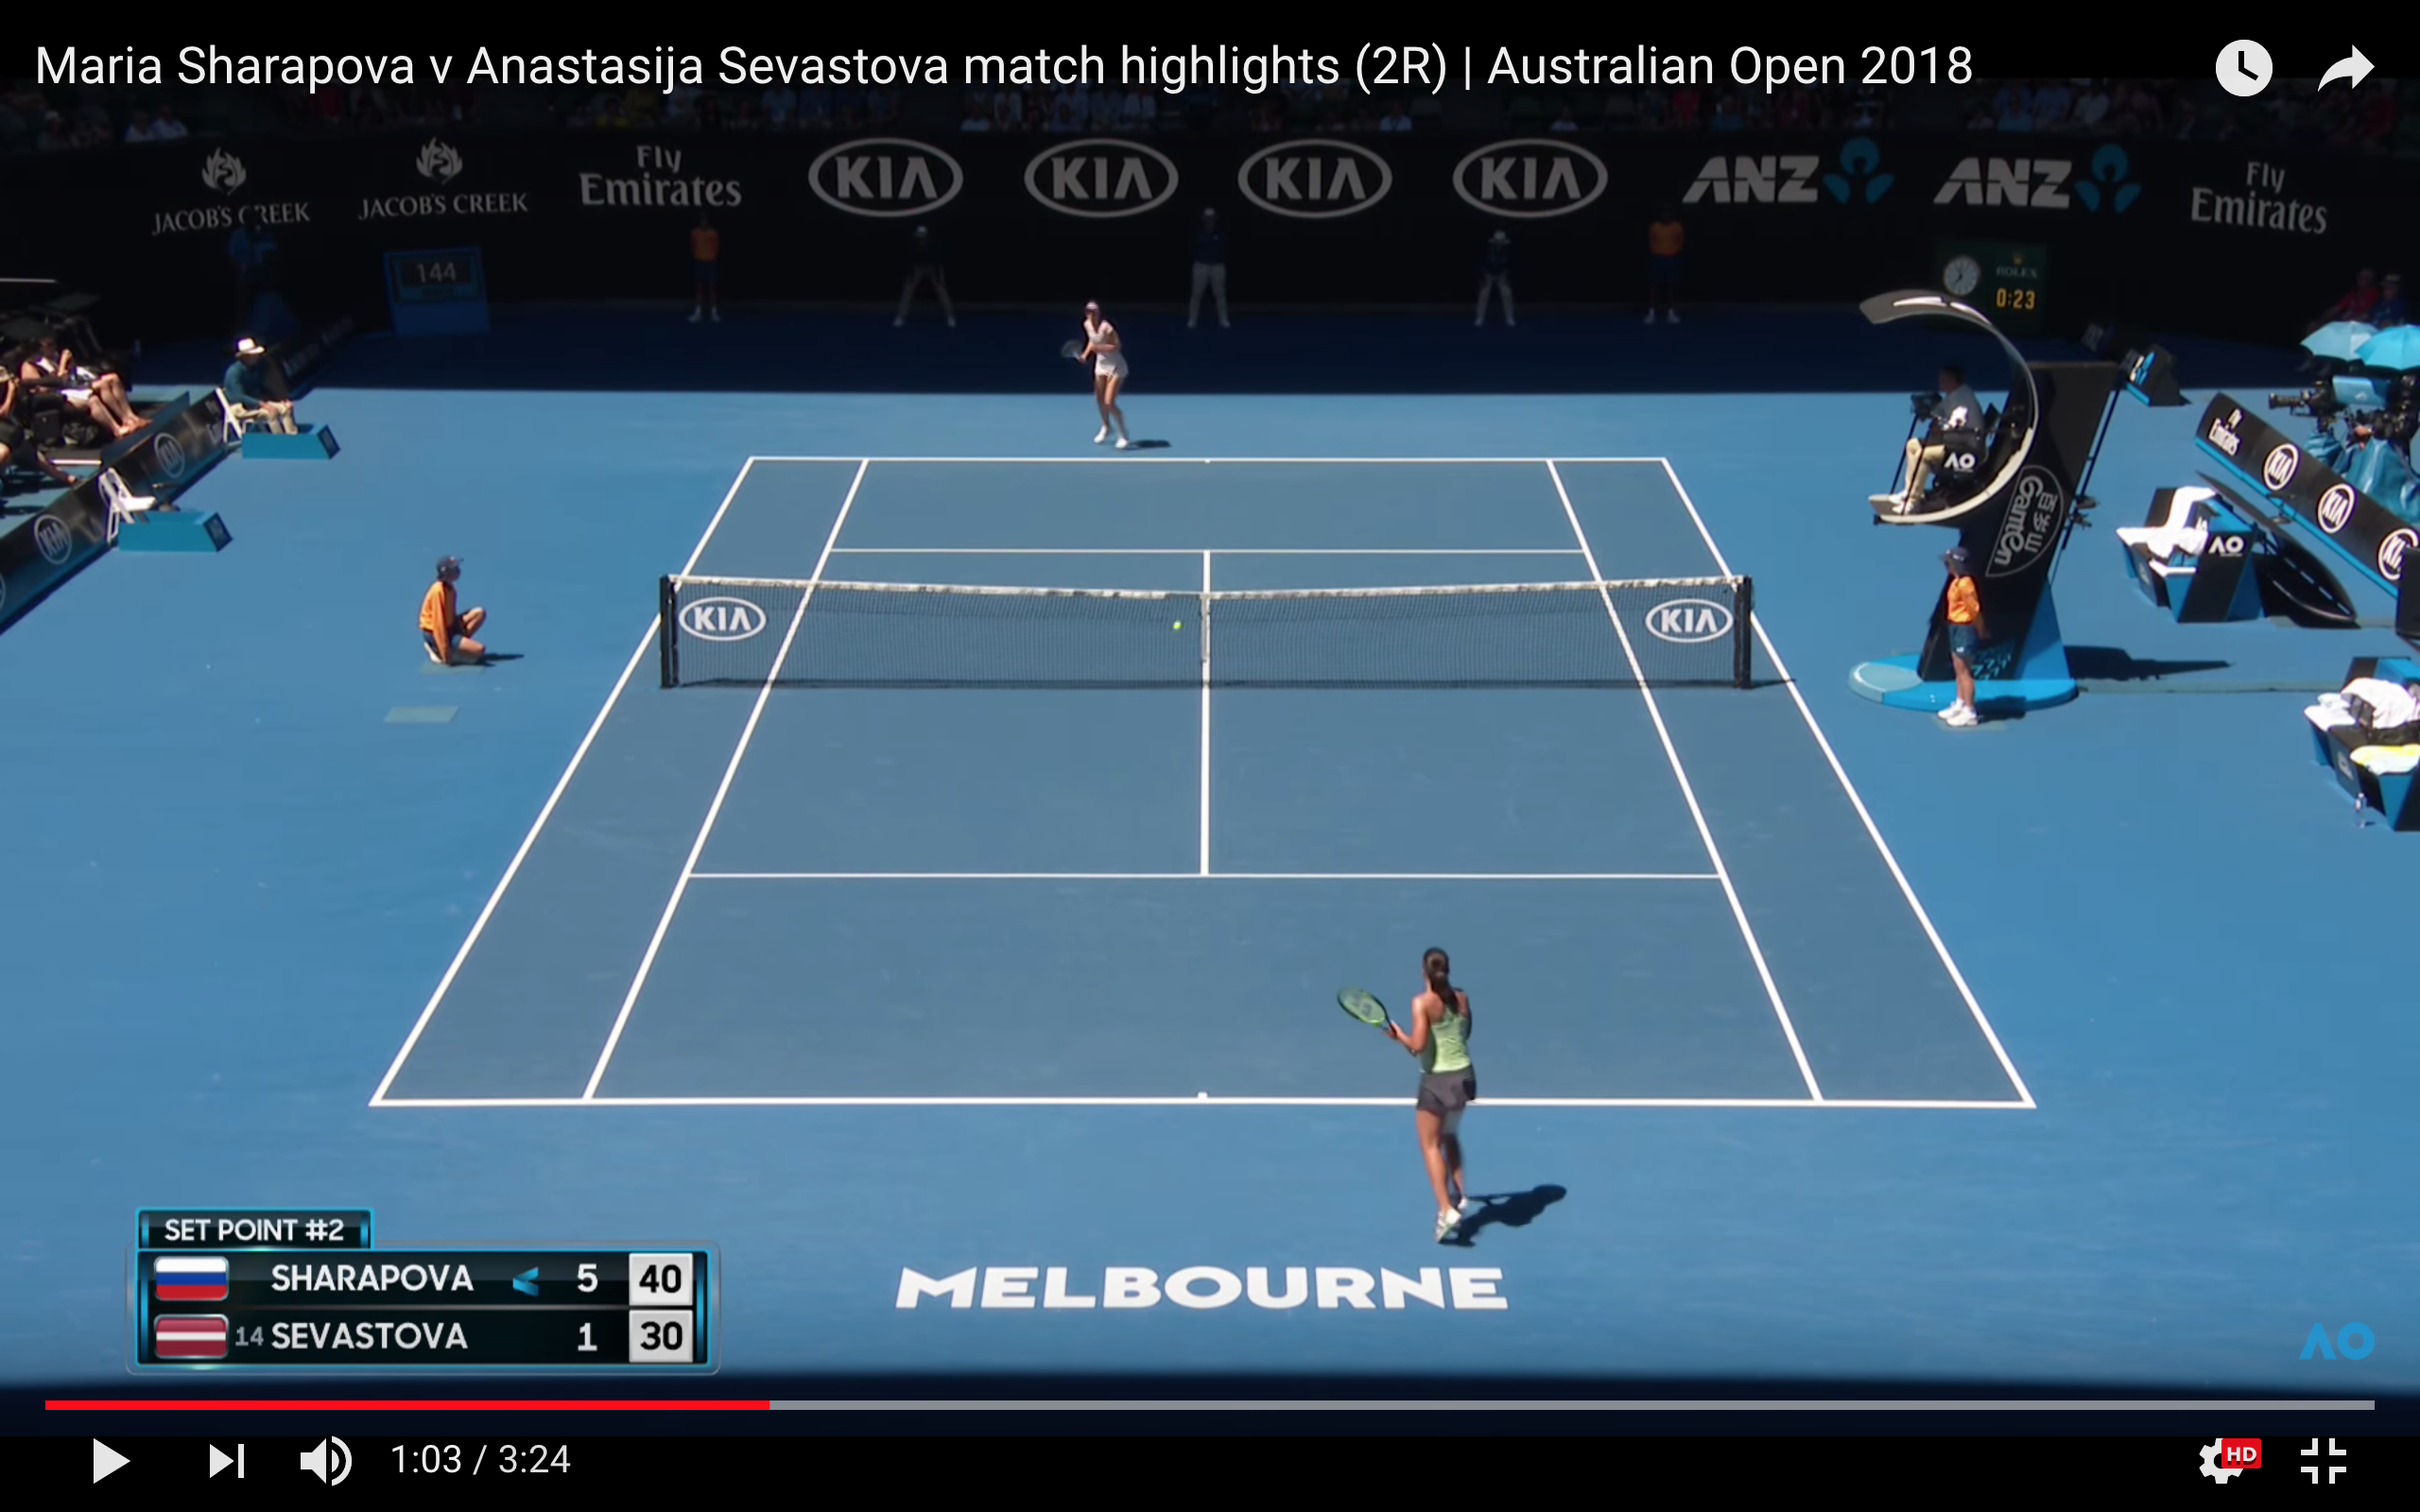tennis ball: (1165, 613, 1192, 640)
tennis player: (1346, 934, 1493, 1243), (1056, 305, 1149, 458)
